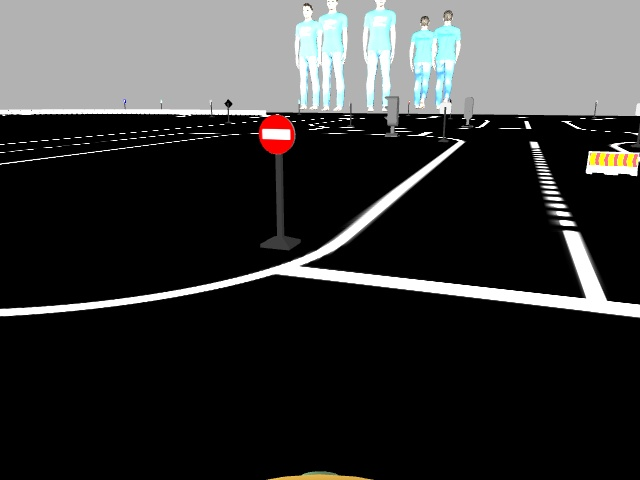ClosedRoadStand: (588, 151, 638, 176)
NoEntry: (258, 118, 297, 153)
